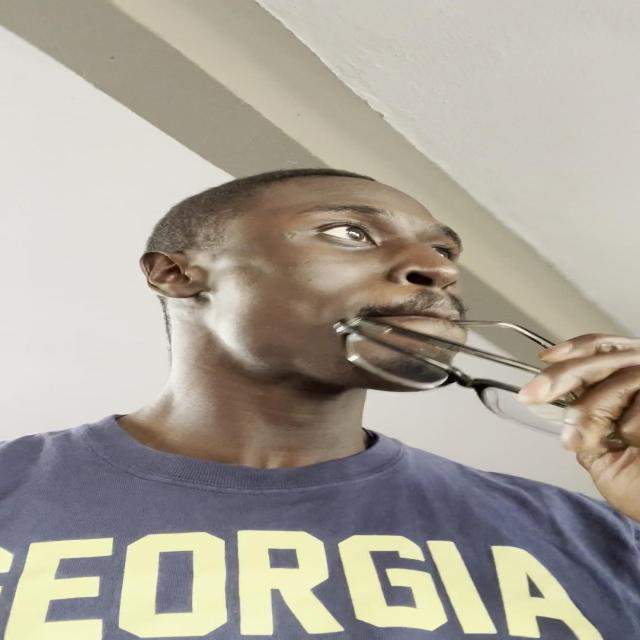NO-Mask: (206, 174, 469, 393)
